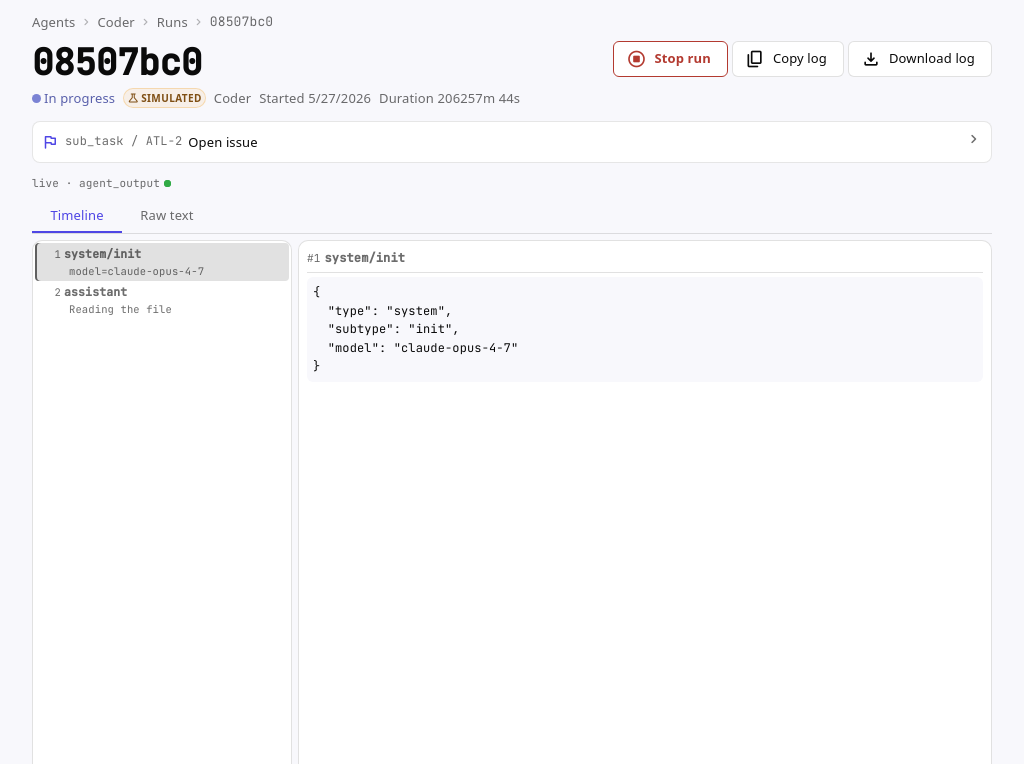
Test case: AgentRunDetail page › parses live stream-json lines into the Timeline while the run is in_progress
Expected: the text "live · agent_output" is shown, [32,175,160,193]
Expected: the text "assistant" is shown, [64,284,127,299]
What coordinates should you click on to do the following:
click the tab "Raw text"
I would click on:
 (167, 215)
Its box is [122,197,212,233].
(page scrolled)
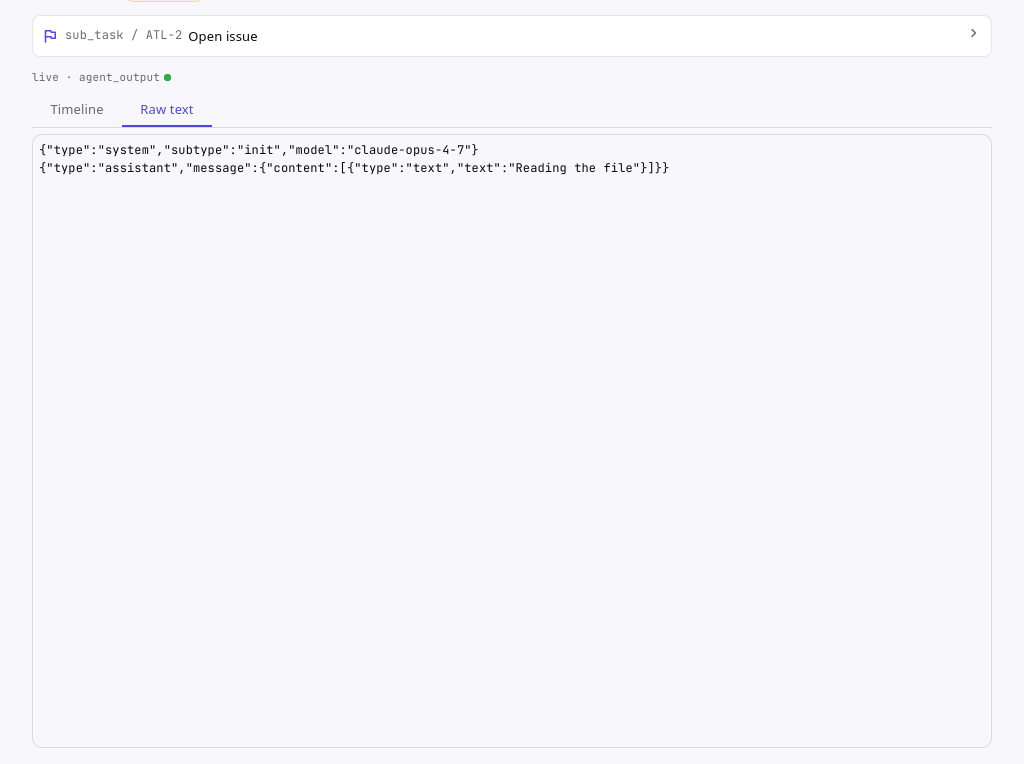
Expected: the text "\"type\":\"assistant\"" is shown, [39,142,670,176]
